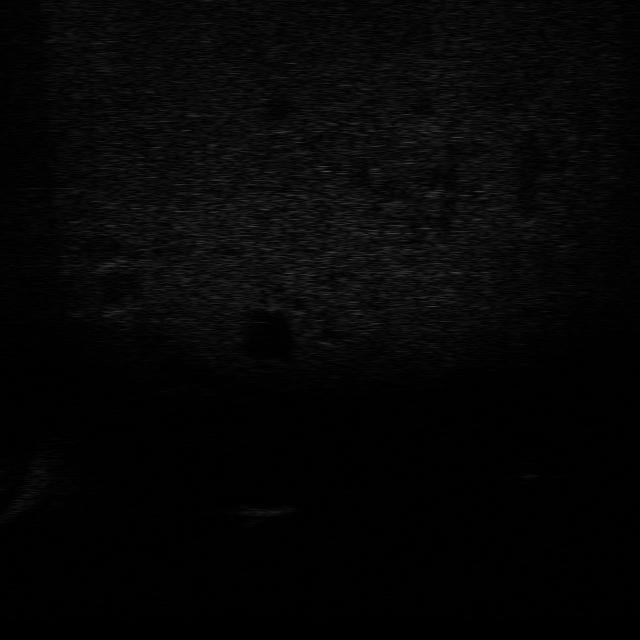ball: (498, 454, 558, 486)
square cage: (226, 491, 298, 530)
